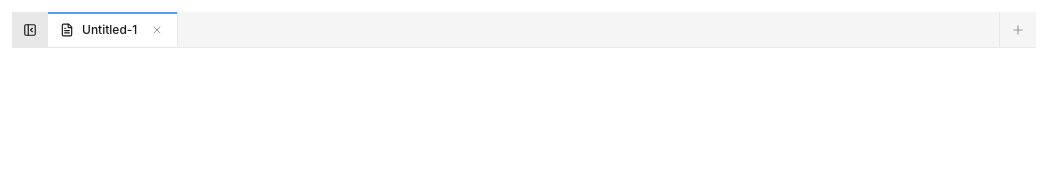
it: TabsBar — context menu (AC#3) › Copy Path is disabled for an untitled document
Step 1. Right-click the button with class "tab" → (113, 30), box [48, 12, 178, 48]
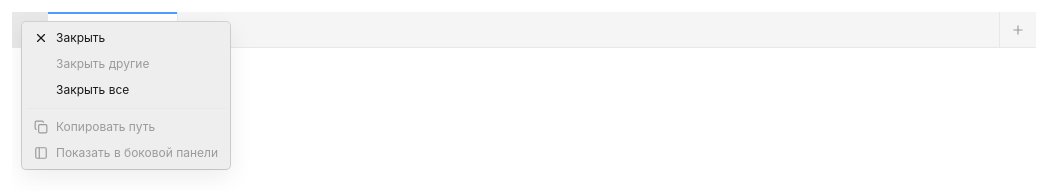
Result: the menu item with class "context-menu__item" showing "Копировать путь" is disabled at [26, 115, 226, 139]
